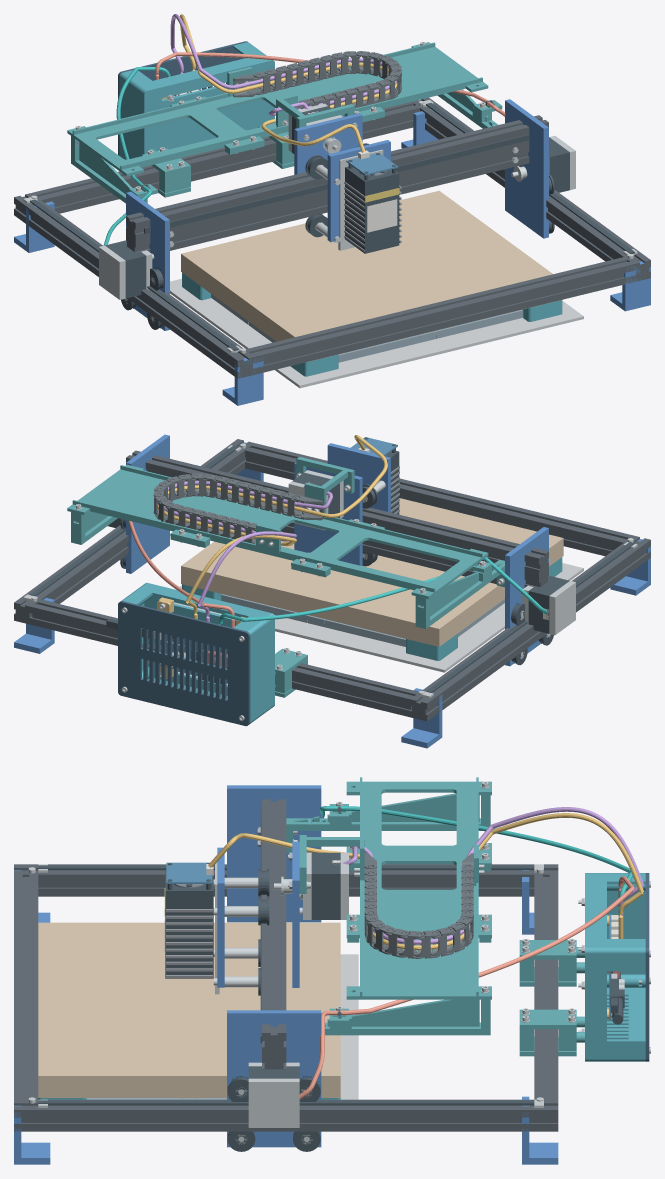
The model's file is assembly-b.glb.
3 views of the same model, one above another, from view 1: azimuth 30°, elevation 25°; view 2: azimuth 150°, elevation 25°; view 3: azimuth 270°, elevation 25° (orthographic). The views are drawn at different scales.
Parts seen in each view (by area): view 1: Material exemplu — 20 mm, Traversă fixă (×2), Traversă mobilă X, Șină longitudinală (×2), 01_carcasa_corp, Bază necombustibilă — reprezentare de poziționare, Placă laterală a traversei (×2), Jgheab X · 1, Jgheab X · 3, Jgheab X · 2, Picior original — aproximat (×3), Consolă nervurată a traversei (×2) (+21 smaller); view 2: Material exemplu — 20 mm, 02_carcasa_capac, Traversă fixă (×2), Șină longitudinală (×2), Traversă mobilă X, 01_carcasa_corp, Jgheab X · 1, Jgheab X · 3, Bază necombustibilă — reprezentare de poziționare, Placă laterală a traversei (×2), Jgheab X · 2, Consolă nervurată a traversei (×2) (+16 smaller); view 3: Material exemplu — 20 mm, Șină longitudinală (×2), Placă laterală a traversei (×2), Traversă fixă (×2), 01_carcasa_corp, Consolă nervurată a traversei (×2), Jgheab X · 3, Traversă mobilă X, Jgheab X · 2, Jgheab X · 1, Curea Y — traseu fix (×2), Colier demontabil pe profil fix (×2) (+15 smaller).
Part boxes in pixels (x1=…): Material exemplu — 20 mm: x1=181, y1=190, x2=562, y2=362; Traversă fixă (×2): x1=31, y1=102, x2=633, y2=374; Traversă mobilă X: x1=126, y1=115, x2=548, y2=252; Șină longitudinală (×2): x1=14, y1=97, x2=650, y2=378; 01_carcasa_corp: x1=119, y1=42, x2=274, y2=159; Bază necombustibilă — reprezentare de poziționare: x1=170, y1=278, x2=583, y2=388; Placă laterală a traversei (×2): x1=126, y1=99, x2=548, y2=330; Jgheab X · 1: x1=67, y1=101, x2=247, y2=176; Jgheab X · 3: x1=321, y1=42, x2=488, y2=117; Jgheab X · 2: x1=188, y1=67, x2=367, y2=146; Picior original — aproximat (×3): x1=26, y1=201, x2=650, y2=405; Consolă nervurată a traversei (×2): x1=71, y1=89, x2=498, y2=203; Material exemplu — 20 mm: x1=181, y1=498, x2=563, y2=646; 02_carcasa_capac: x1=118, y1=601, x2=250, y2=726; Traversă fixă (×2): x1=31, y1=443, x2=633, y2=717; Șină longitudinală (×2): x1=14, y1=439, x2=650, y2=721; Traversă mobilă X: x1=126, y1=450, x2=548, y2=587; 01_carcasa_corp: x1=121, y1=582, x2=274, y2=723; Jgheab X · 1: x1=308, y1=523, x2=488, y2=599; Jgheab X · 3: x1=67, y1=464, x2=234, y2=540; Bază necombustibilă — reprezentare de poziționare: x1=174, y1=563, x2=583, y2=672; Placă laterală a traversei (×2): x1=126, y1=434, x2=548, y2=666; Jgheab X · 2: x1=187, y1=502, x2=367, y2=569; Consolă nervurată a traversei (×2): x1=71, y1=511, x2=504, y2=628; Material exemplu — 20 mm: x1=38, y1=922, x2=340, y2=1097; Șină longitudinală (×2): x1=14, y1=864, x2=558, y2=1131; Placă laterală a traversei (×2): x1=227, y1=785, x2=321, y2=1147; Traversă fixă (×2): x1=14, y1=874, x2=558, y2=1099; 01_carcasa_corp: x1=585, y1=873, x2=645, y2=1061; Consolă nervurată a traversei (×2): x1=286, y1=793, x2=490, y2=1035; Jgheab X · 3: x1=346, y1=920, x2=491, y2=999; Traversă mobilă X: x1=262, y1=799, x2=286, y2=1069; Jgheab X · 2: x1=346, y1=844, x2=491, y2=924; Jgheab X · 1: x1=346, y1=777, x2=491, y2=853; Curea Y — traseu fix (×2): x1=38, y1=865, x2=534, y2=1105; Colier demontabil pe profil fix (×2): x1=519, y1=940, x2=576, y2=1050.
Size of the model in its own units: 0.53 by 0.1954 by 0.5265.
